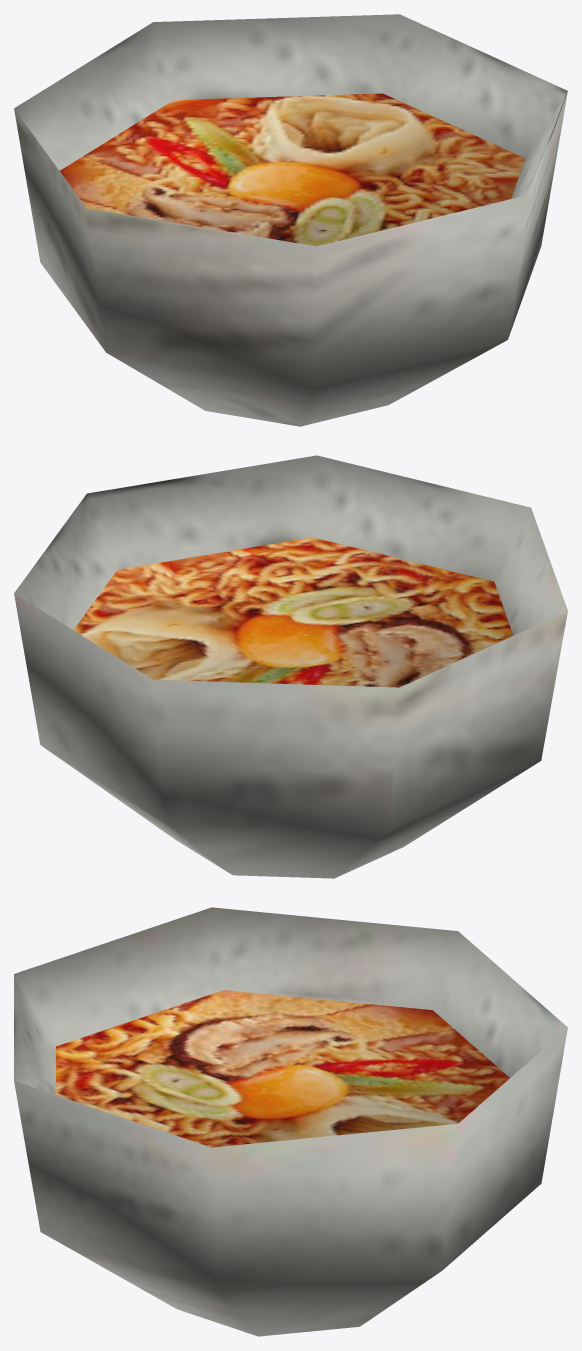
Rendered from Plate_food-col.glb.
3 views of the same model, one above another, from view 1: azimuth 30°, elevation 25°; view 2: azimuth 150°, elevation 25°; view 3: azimuth 270°, elevation 25° (orthographic). The views are drawn at different scales.
Parts seen in each view (by area): view 1: Plate_food-col; view 2: Plate_food-col; view 3: Plate_food-col.
Boxes of the visible parts, x1,y1,x2,y2 form: Plate_food-col: [14, 14, 567, 426]; Plate_food-col: [14, 455, 567, 878]; Plate_food-col: [14, 907, 567, 1336].
Bounding box in the file's own units: 0.2909 × 0.1467 × 0.2836.
1 material, 1 textured.
